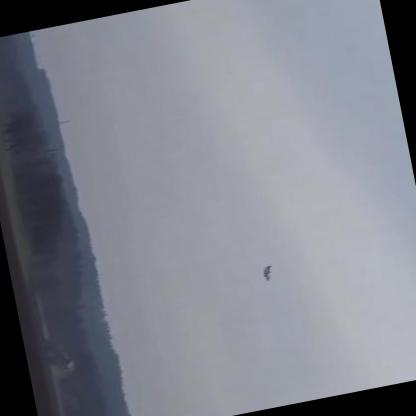plane: (259, 265, 274, 282)
